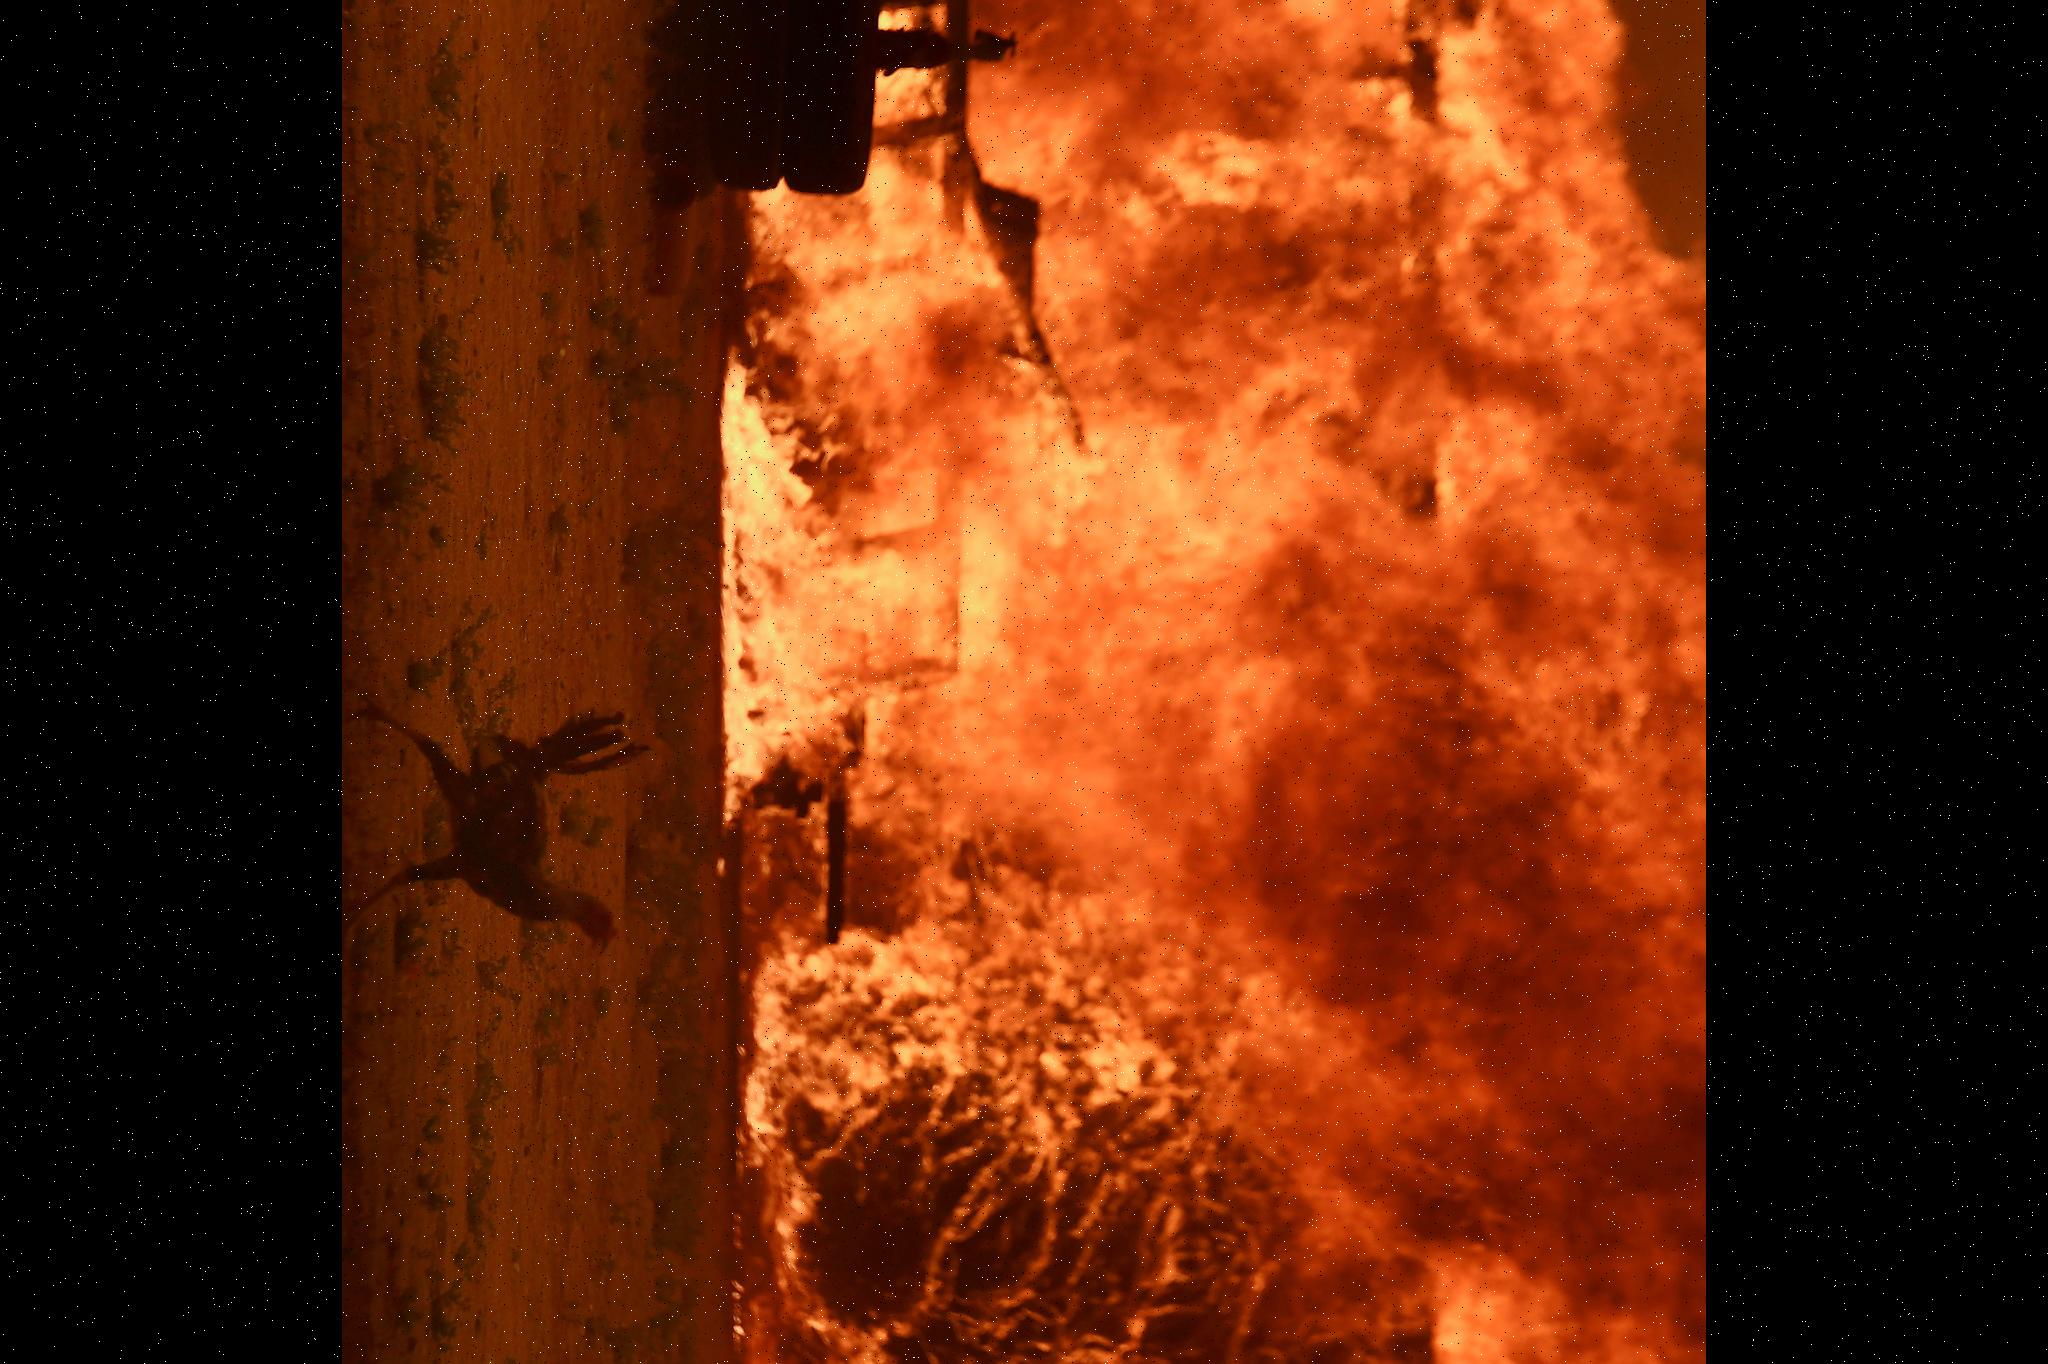fire: (711, 0, 1700, 1364)
